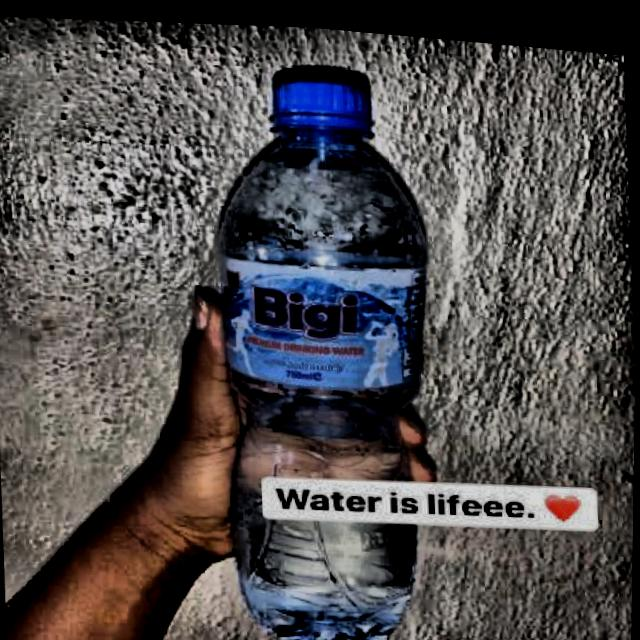Bottles: (189, 29, 486, 640)
